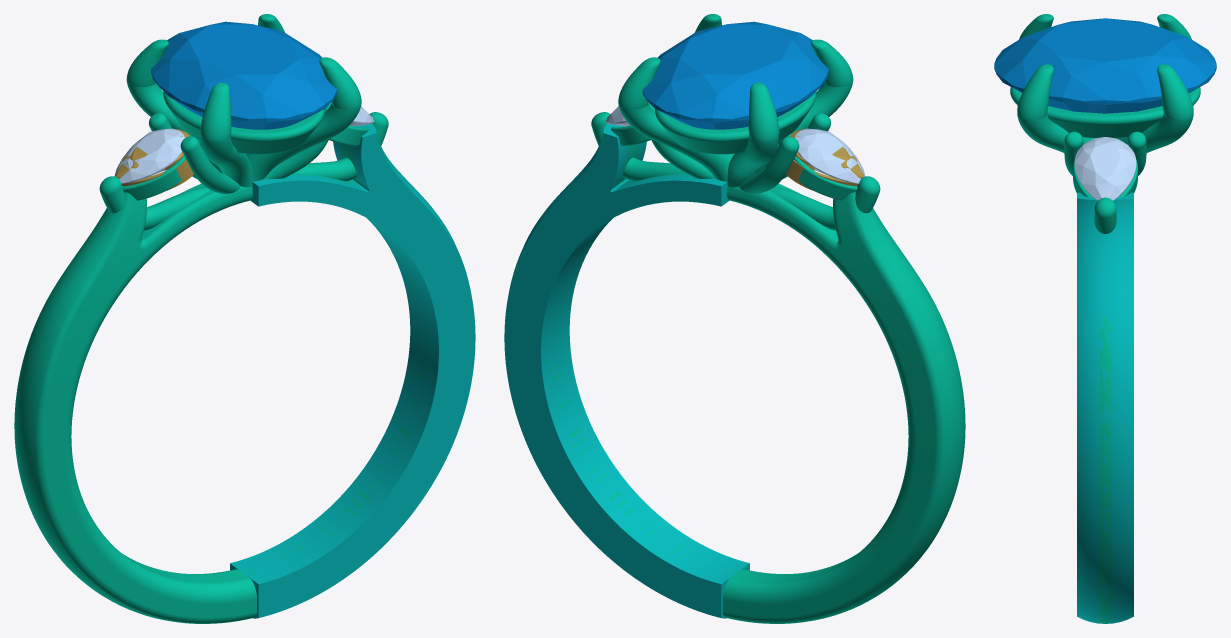
The picture shows the model from 3 angles, left to right: view 1: azimuth 30°, elevation 25°; view 2: azimuth 150°, elevation 25°; view 3: azimuth 270°, elevation 25°; orthographic projection.
Visible parts, largest first — view 1: VR350(front).3dm, Diamond_Oval, Diamond_Pear, Bezel; view 2: VR350(front).3dm, Diamond_Oval, Diamond_Pear, Bezel; view 3: VR350(front).3dm, Diamond_Oval, Diamond_Pear, Bezel.
Boxes of the visible parts, box(x1,y1,x2,y2) form: VR350(front).3dm: box(14, 14, 475, 623); Diamond_Oval: box(151, 21, 337, 129); Diamond_Pear: box(114, 128, 184, 183); Bezel: box(122, 156, 185, 200); VR350(front).3dm: box(504, 14, 965, 623); Diamond_Oval: box(642, 21, 828, 129); Diamond_Pear: box(795, 128, 865, 183); Bezel: box(794, 156, 857, 200); VR350(front).3dm: box(1010, 14, 1200, 623); Diamond_Oval: box(994, 18, 1216, 113); Diamond_Pear: box(1074, 137, 1136, 200); Bezel: box(1073, 159, 1137, 197).
Size of what is drawn, in the model's own units: 2.46 by 2.97 by 1.07.
